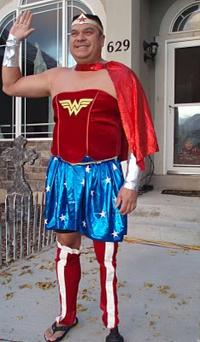person: (2, 8, 144, 342)
